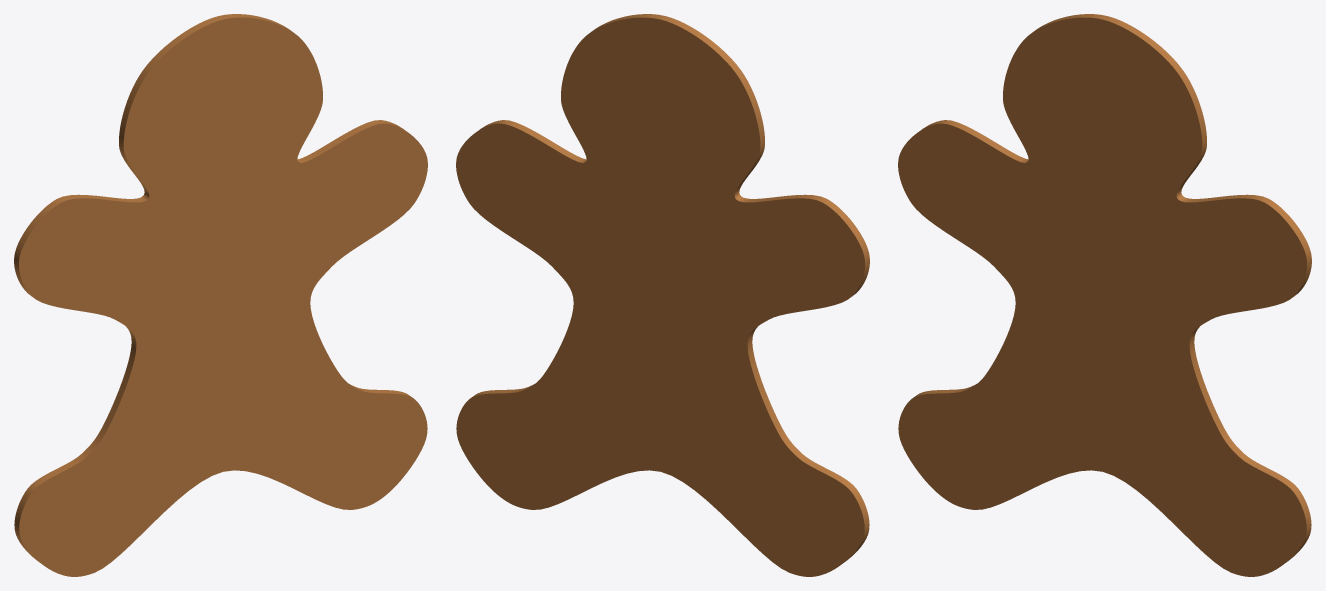
3 views of the same model, side by side, from view 1: azimuth 30°, elevation 25°; view 2: azimuth 150°, elevation 25°; view 3: azimuth 330°, elevation 25° (orthographic).
Parts seen in each view (by area): view 1: biscuit; view 2: biscuit; view 3: biscuit.
Part boxes in pixels (box(x1,y1,x2,y2)): biscuit: box(14, 14, 427, 576); biscuit: box(456, 14, 869, 576); biscuit: box(898, 14, 1311, 576).
Bounding box in the file's own units: 0.0984 × 0.1201 × 0.00199.
